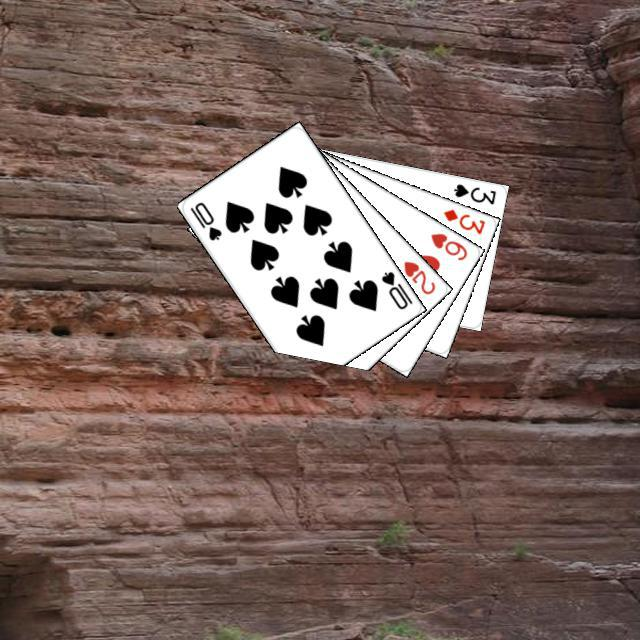10s: (185, 197, 224, 242), (376, 266, 414, 311)
2h: (399, 256, 437, 296)
3d: (438, 204, 487, 236)
3s: (449, 179, 498, 206)
6h: (426, 228, 469, 262)
